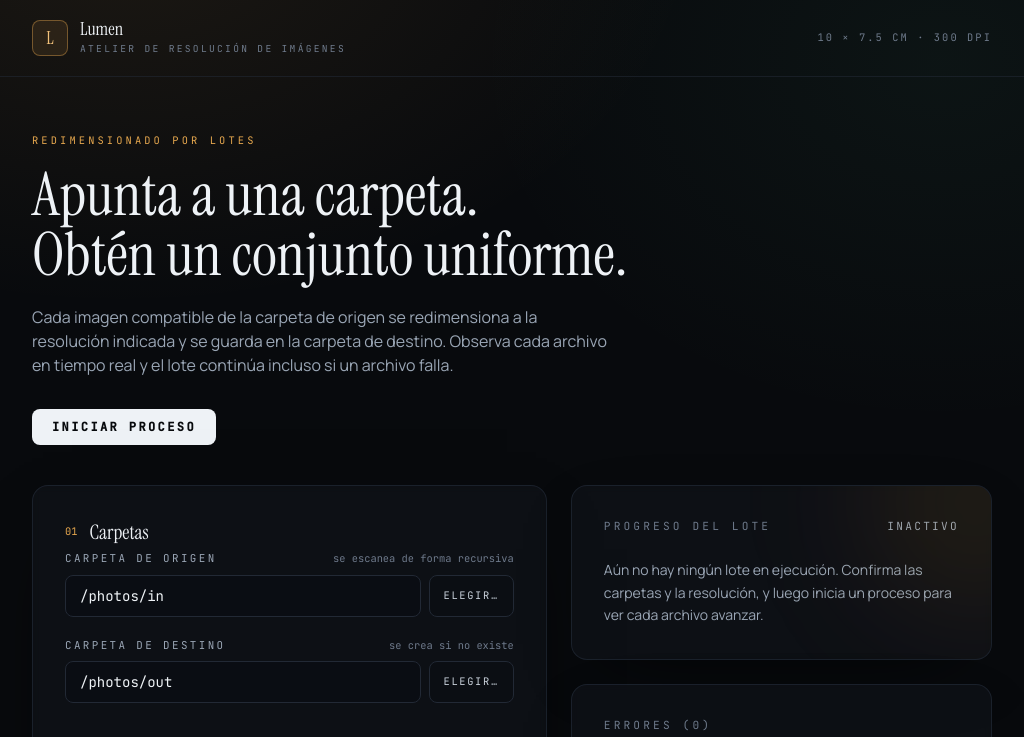
Test: App › fills the field with the folder chosen by the native picker
Expected: the field labelled "Carpeta de origen" is shown, [65,575,420,617]
Click the button with aria-label "elegir ruta de origen". click: [471, 596]
box: [428,575,514,617]
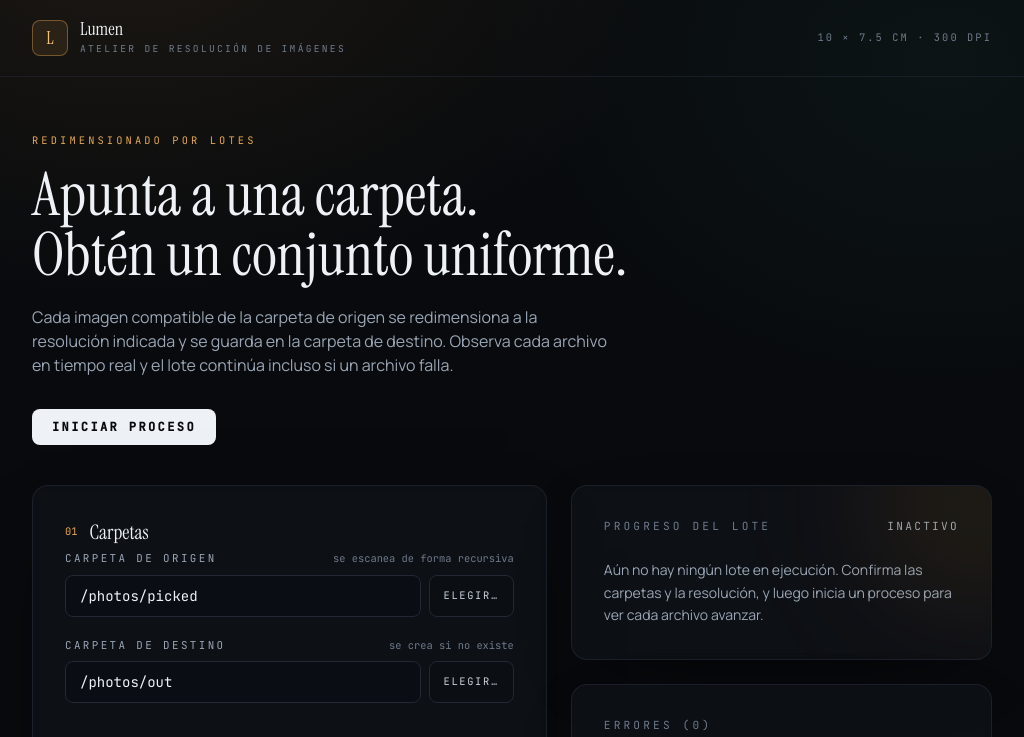
Now the field labelled "Carpeta de origen" holds "/photos/picked", box [65,575,420,617]
